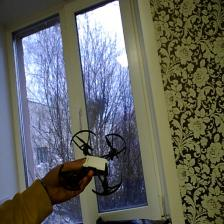drone: (57, 128, 131, 201)
